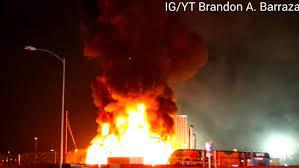fire: (79, 58, 187, 167)
